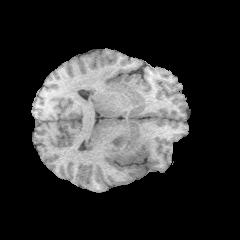glioma: (106, 119, 148, 182)
